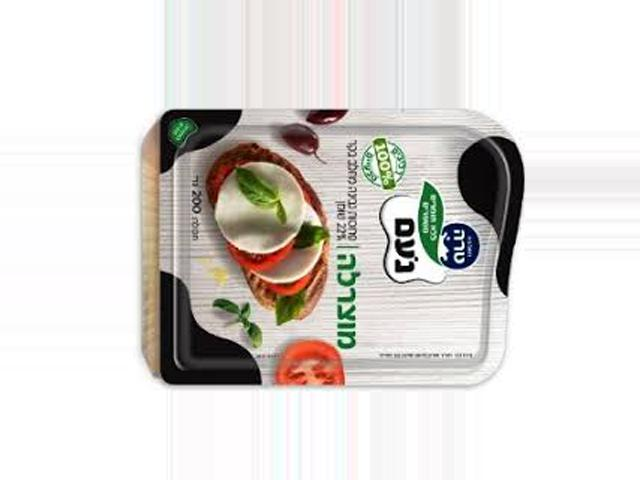cheese: (154, 108, 517, 389)
